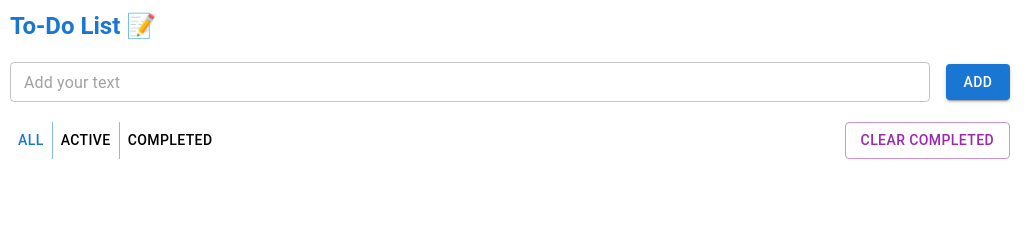
it: HomePage › adds a new task
This screenshot has width=1028, height=236.
In the field with placeholder "Add your text": (470,82) x1=10 y1=62 x2=930 y2=102, type "New Task"
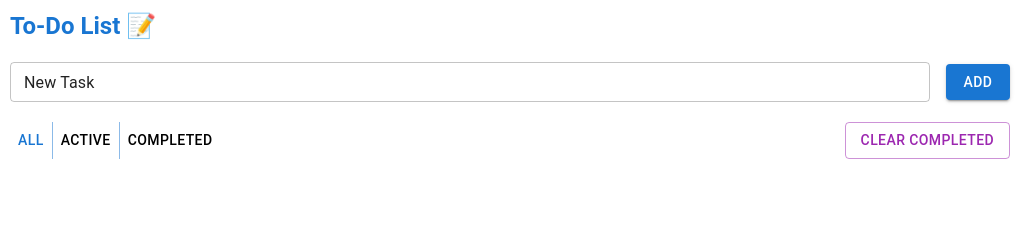
Click the button "Add": (978,82) x1=946 y1=64 x2=1010 y2=100
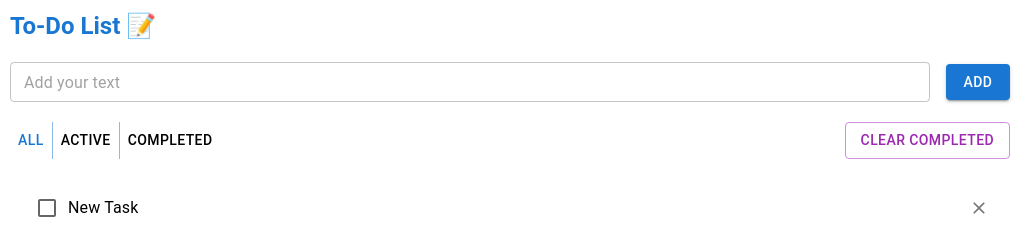
expect the text "New Task" is shown: met, box x1=68 y1=196 x2=138 y2=220
